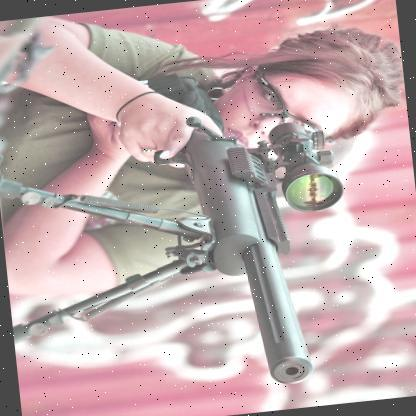rifle: (22, 50, 337, 404)
